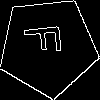F: (23, 21, 71, 57)
